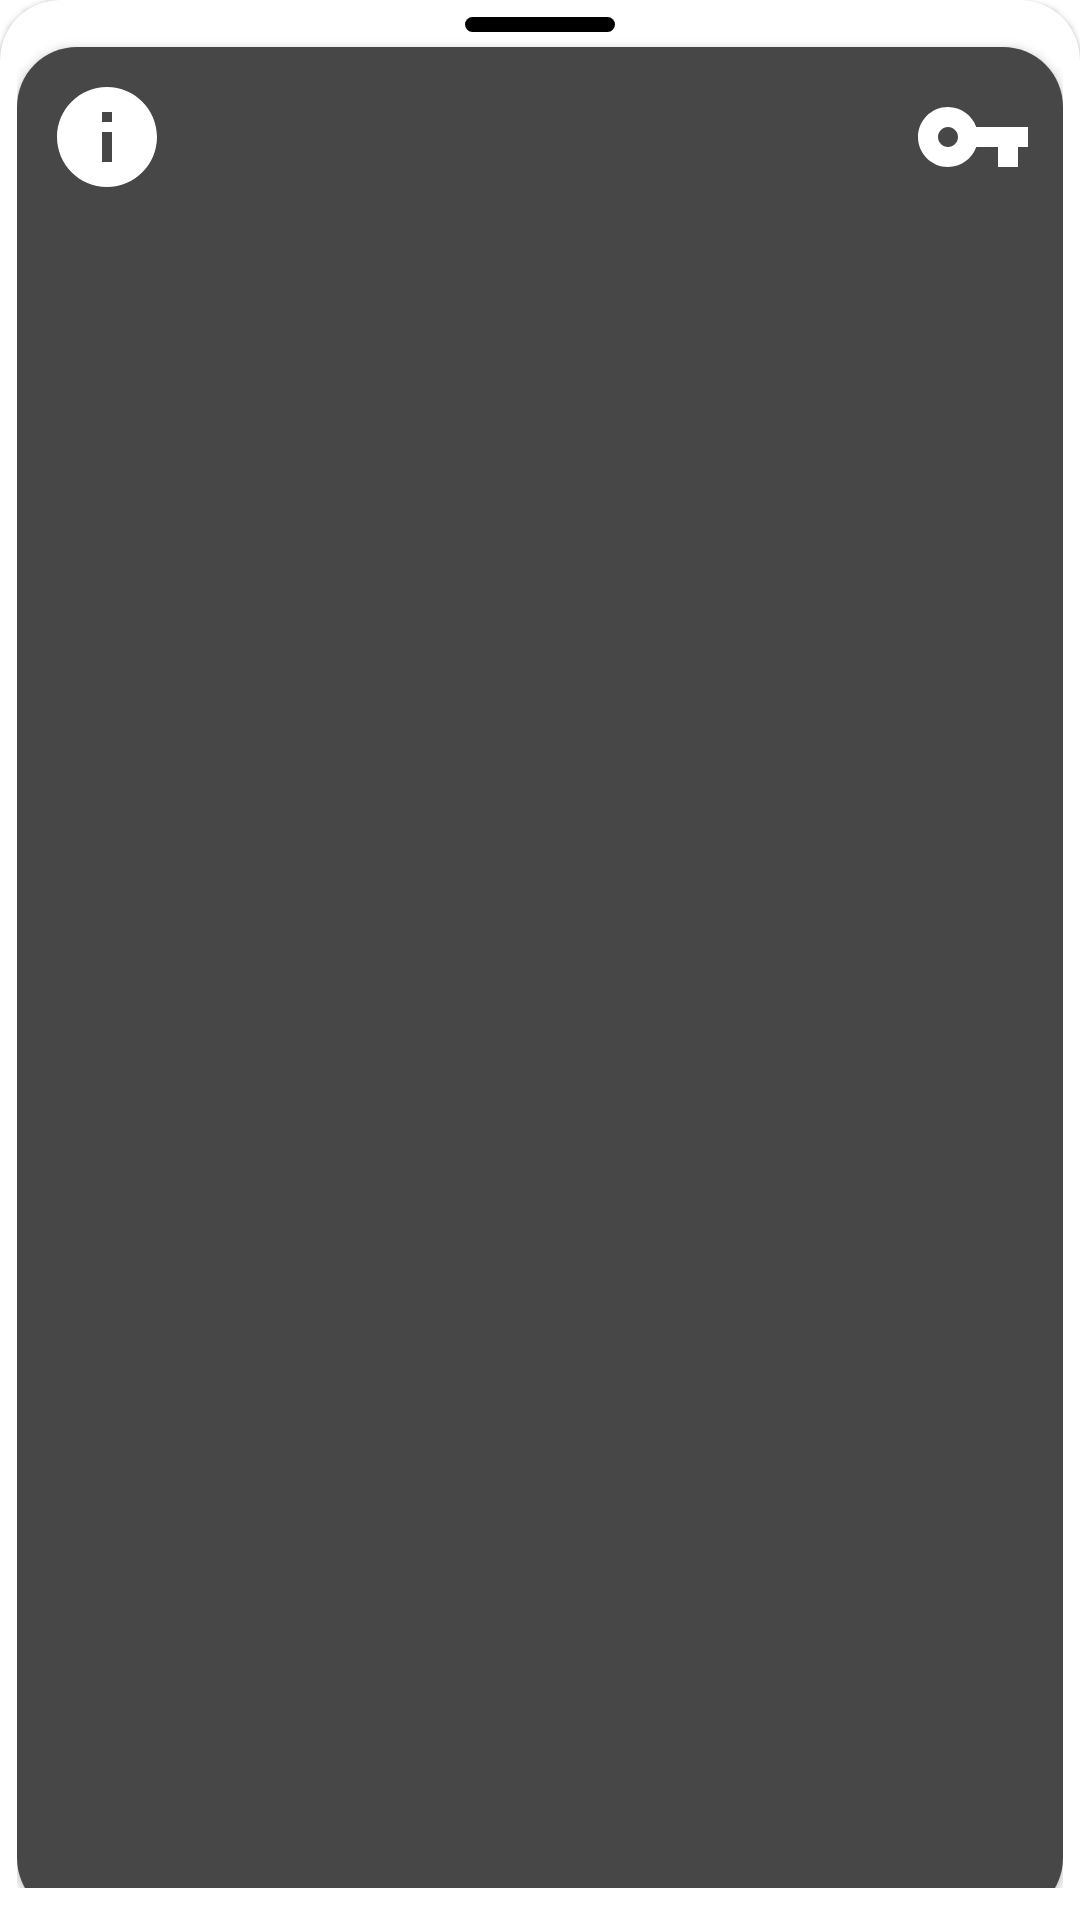

Screen size 1080×1920. Icon name, then its center in pixels as (x=x, y=y):
info: (x=107, y=137)
security token: (x=973, y=137)
